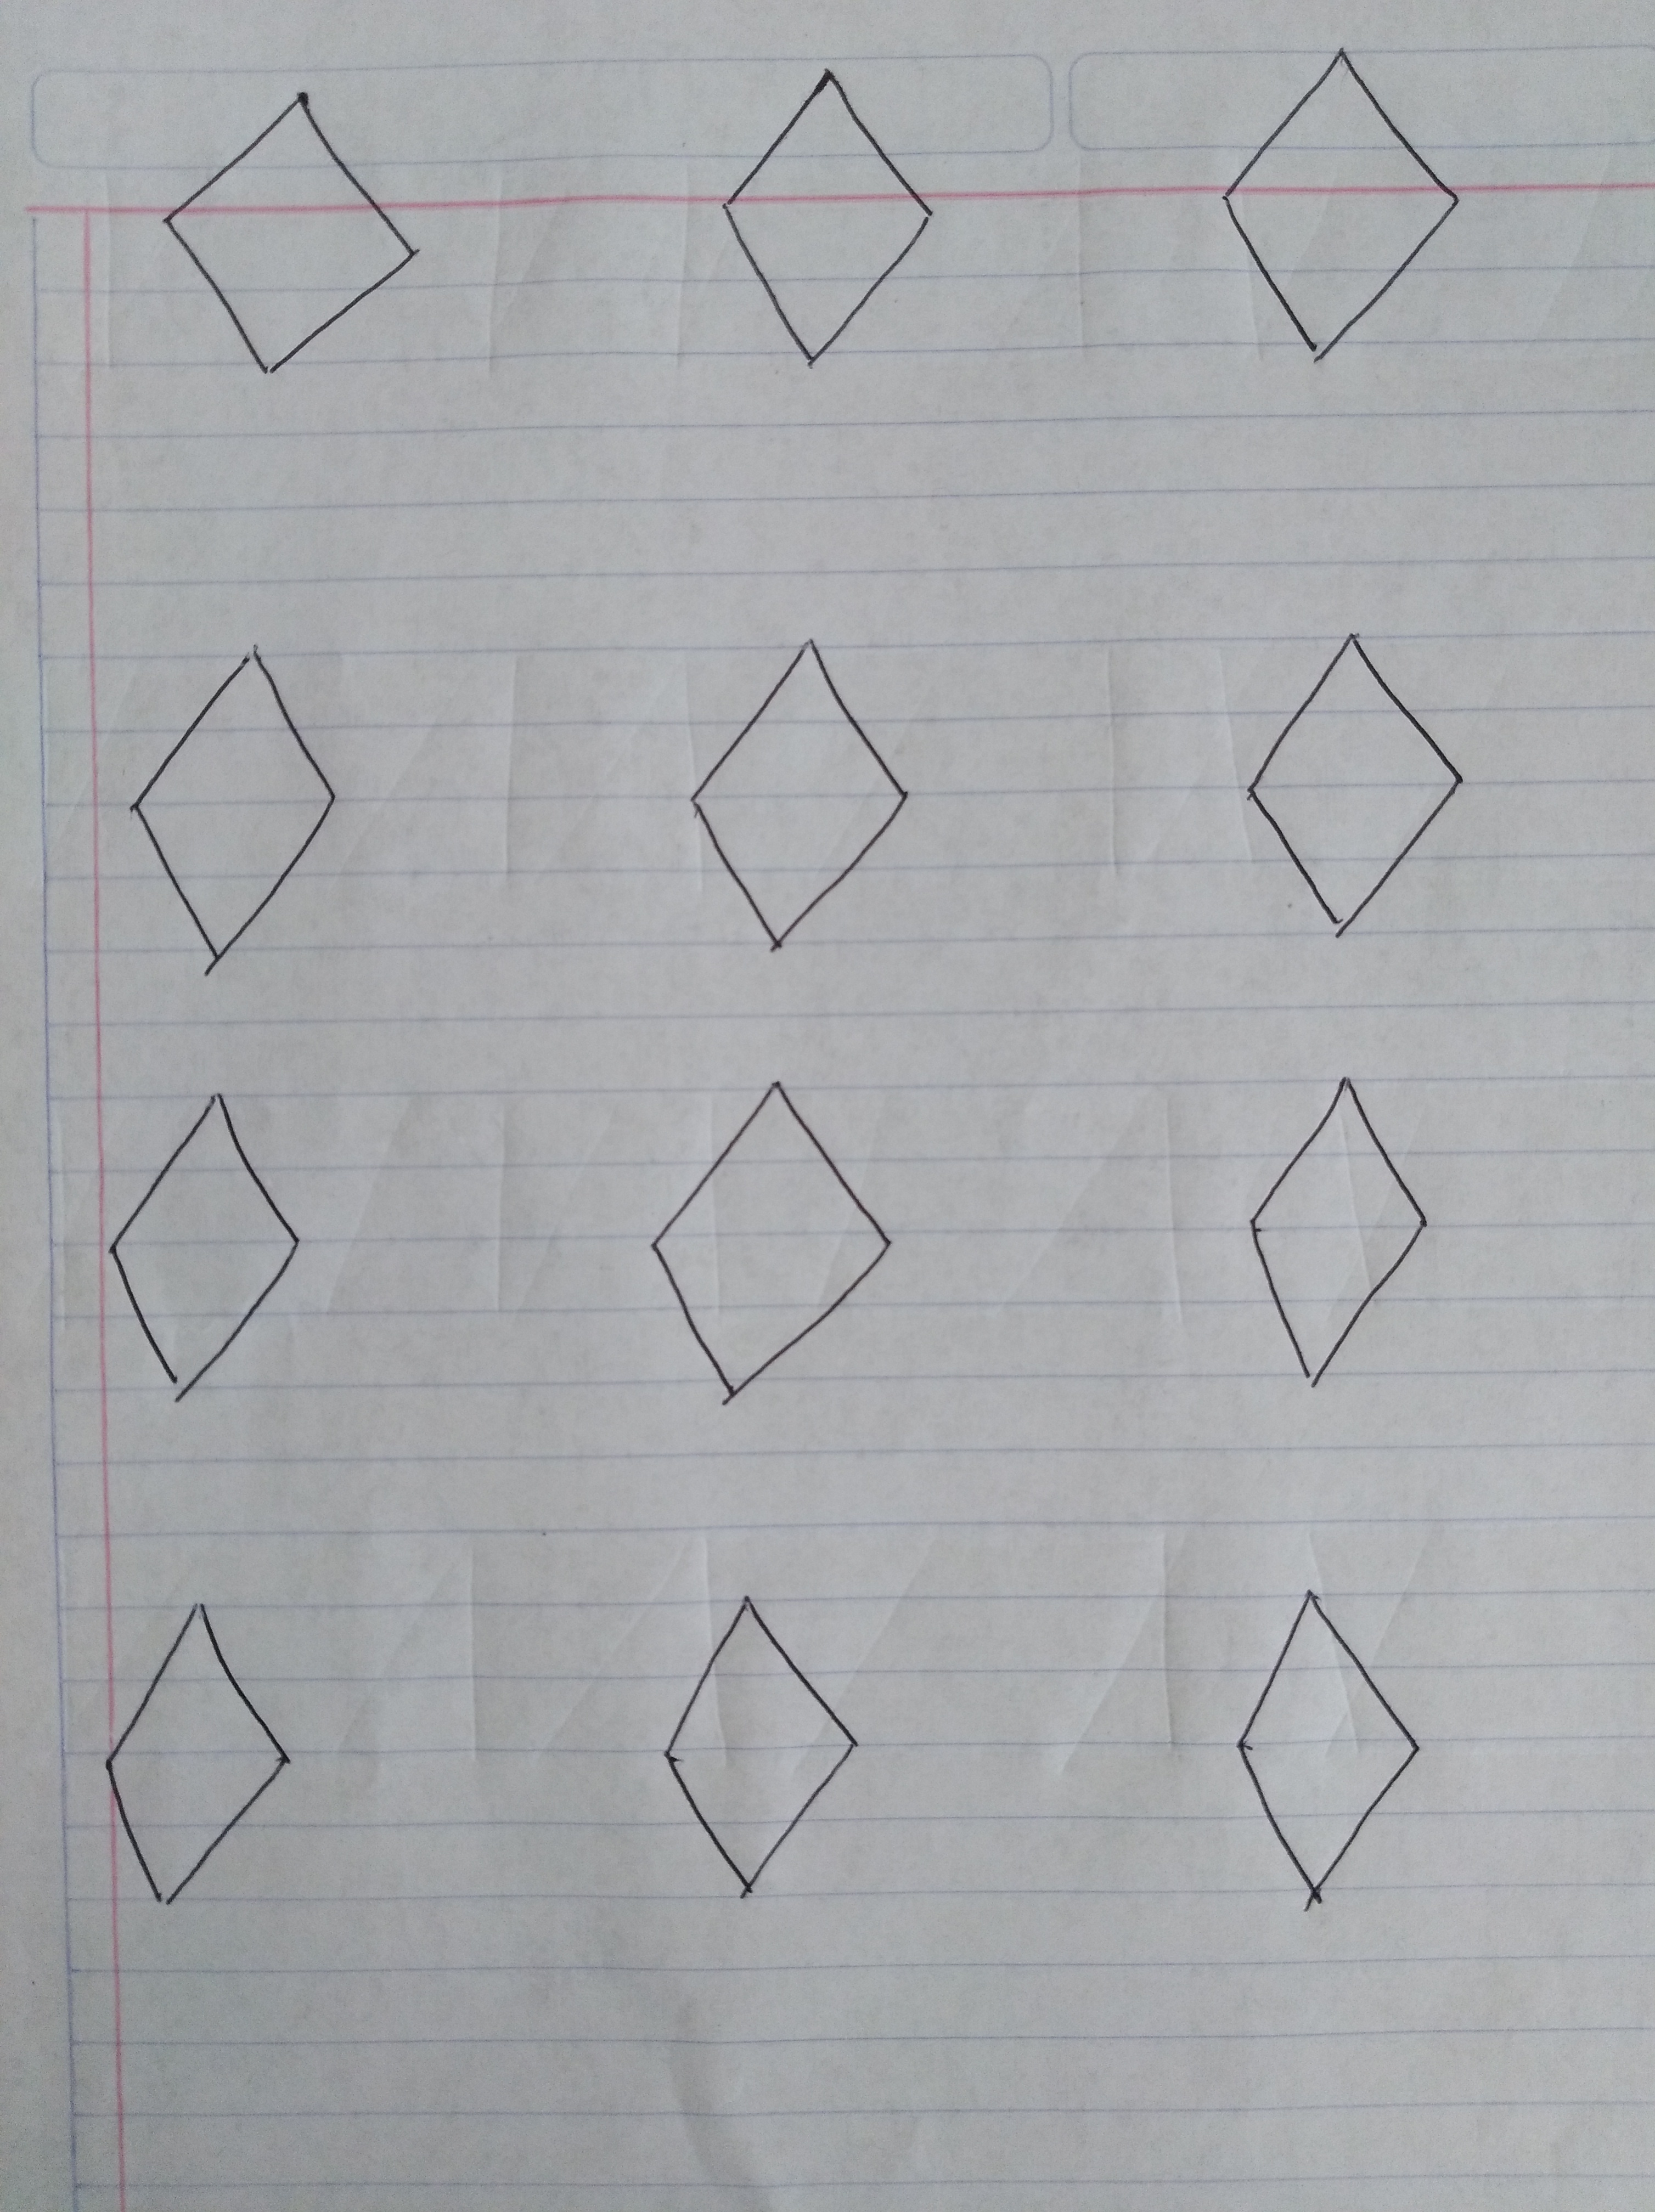decision: (129, 73, 466, 405), (1186, 30, 1499, 386), (622, 1056, 914, 1435), (654, 620, 944, 978), (1213, 605, 1495, 961), (1193, 1051, 1469, 1409), (106, 629, 379, 989), (692, 57, 975, 403), (619, 1576, 899, 1924), (70, 1067, 334, 1425), (1193, 1559, 1448, 1929), (73, 1585, 318, 1931)
